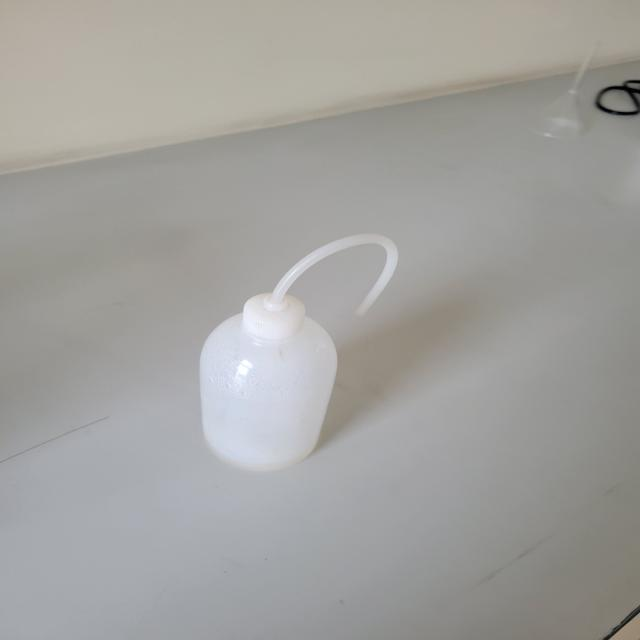Wash_Bottle: (155, 186, 428, 504)
